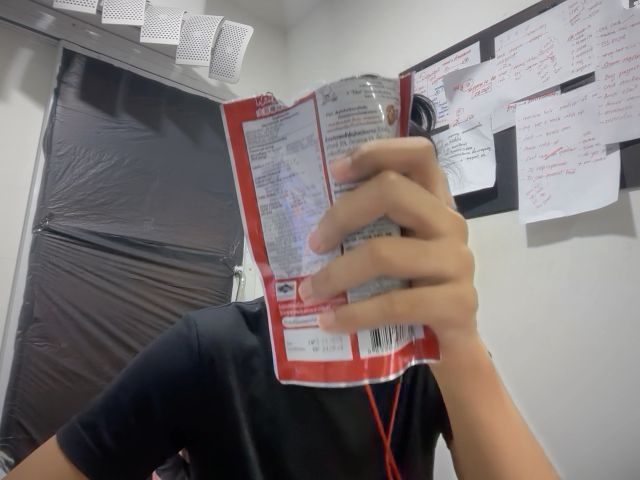snack: (193, 74, 491, 368)
